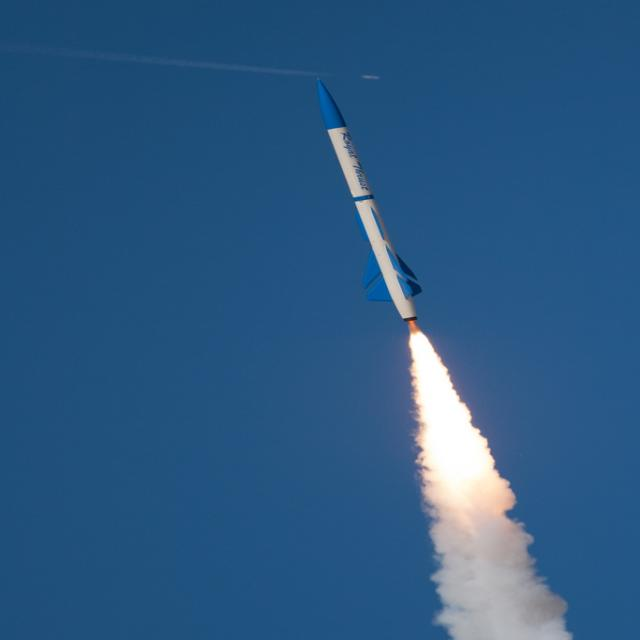rocket: (311, 76, 435, 403)
